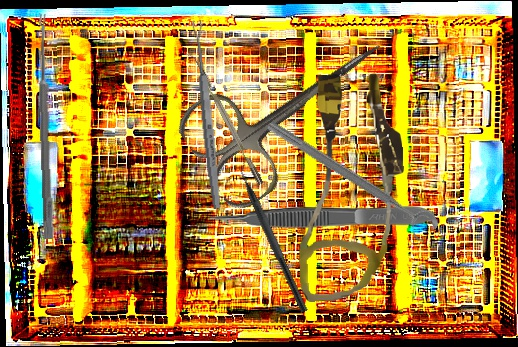Cannula: (289, 70, 411, 303)
Chopper: (231, 155, 318, 314), (183, 49, 264, 189)
Fixation Ring: (258, 115, 442, 247)
Iris Scissors: (170, 0, 414, 216)
Surgical Spoon: (191, 19, 223, 210), (36, 13, 55, 240)
Tissue Forceps: (207, 205, 434, 228)
